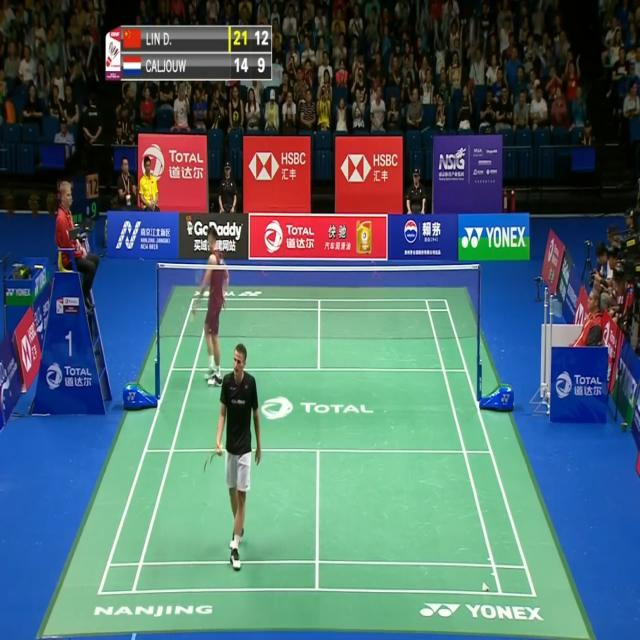Player1: (214, 340, 264, 572)
Player2: (195, 226, 229, 388)
